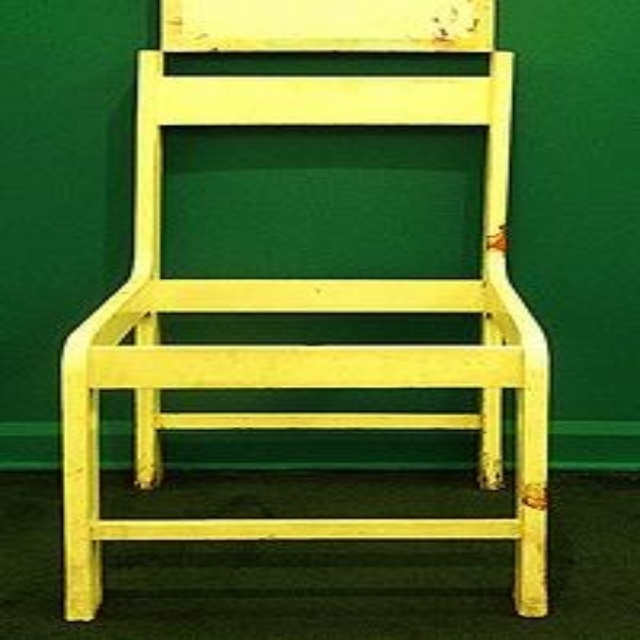obstacle: (61, 50, 544, 619)
